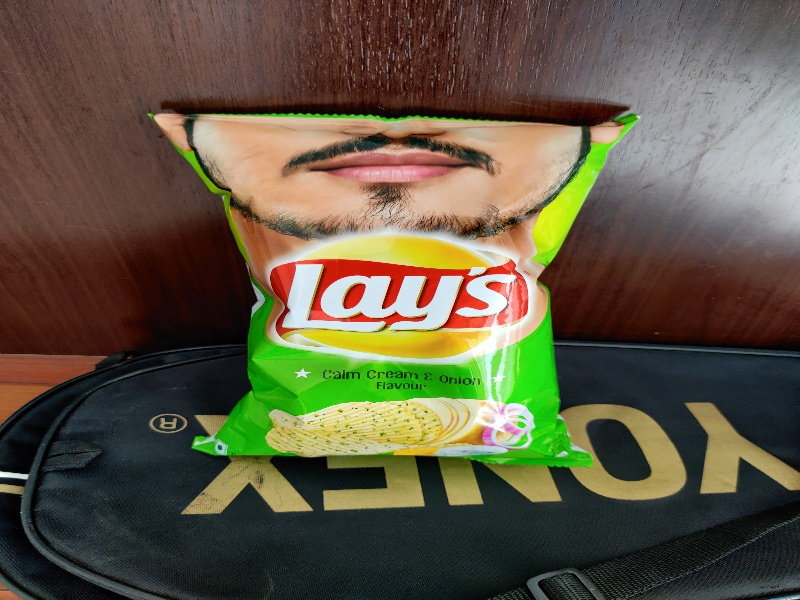lays: (140, 89, 612, 473)
